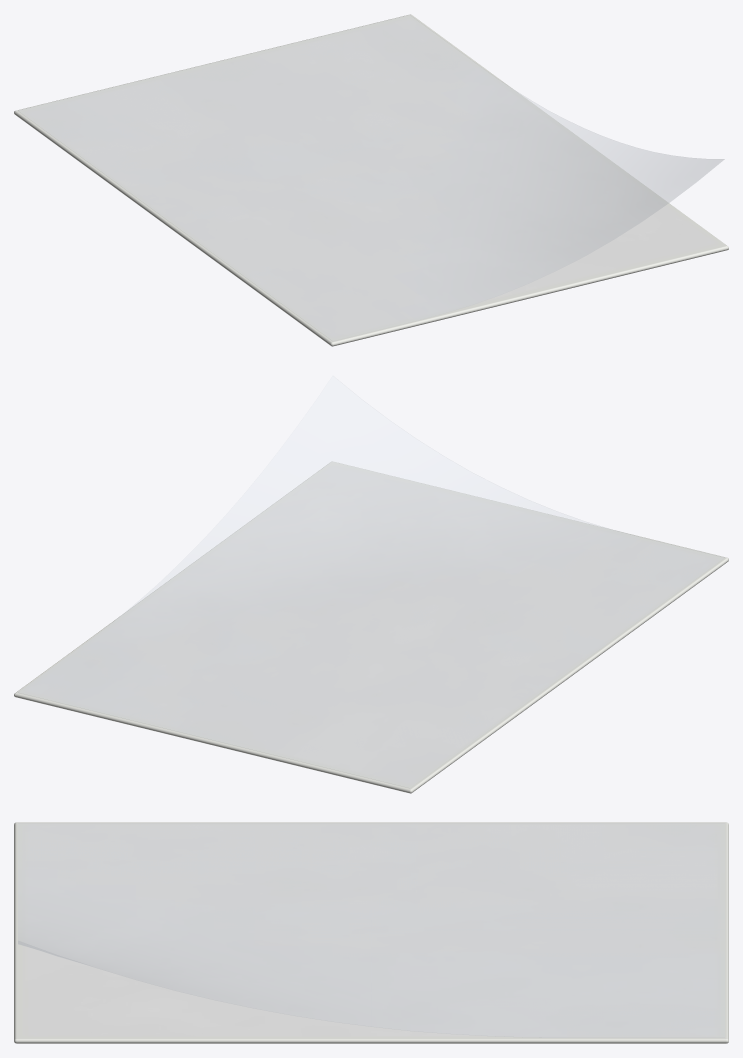
Rendered from GelLifterWhite.obj.
3 views of the same model, one above another, from view 1: azimuth 30°, elevation 25°; view 2: azimuth 150°, elevation 25°; view 3: azimuth 270°, elevation 25° (orthographic). The views are drawn at different scales.
Parts seen in each view (by area): view 1: GelLifter, CoverSheetPET; view 2: CoverSheetPET, GelLifter; view 3: GelLifter, CoverSheetPET.
Boxes of the visible parts, x1=… form: GelLifter: x1=14, y1=14, x2=728, y2=346; CoverSheetPET: x1=18, y1=15, x2=724, y2=340; CoverSheetPET: x1=18, y1=376, x2=724, y2=787; GelLifter: x1=14, y1=461, x2=728, y2=793; GelLifter: x1=14, y1=822, x2=728, y2=1043; CoverSheetPET: x1=18, y1=823, x2=724, y2=1037.
Bounding box in the file's own units: 0.13 × 0.0284 × 0.18.
2 materials, 1 textured.
